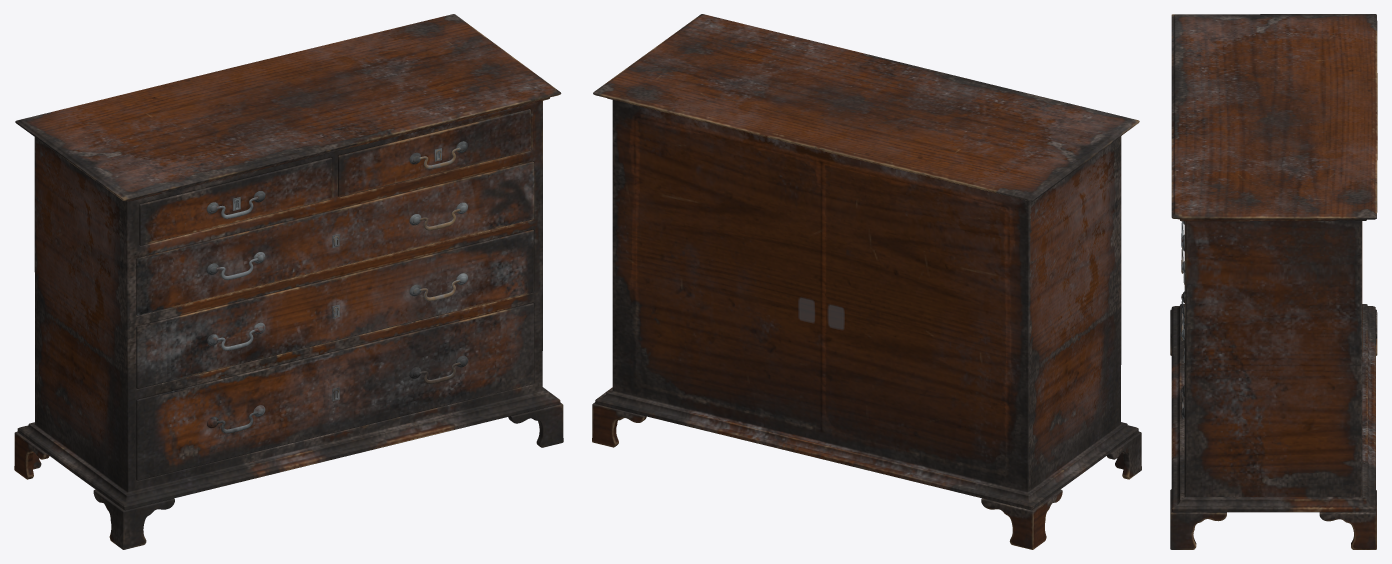
File: ww2-drawer-smoked.glb
The picture shows the model from 3 angles, left to right: view 1: azimuth 30°, elevation 25°; view 2: azimuth 150°, elevation 25°; view 3: azimuth 270°, elevation 25°; orthographic projection. The views are drawn at different scales.
Parts seen in each view (by area): view 1: SM_WW2_DrawersMerged_c1_LOD0; view 2: SM_WW2_DrawersMerged_c1_LOD0; view 3: SM_WW2_DrawersMerged_c1_LOD0.
Part boxes in pixels (box(x1,y1,x2,y2)): SM_WW2_DrawersMerged_c1_LOD0: box(14, 14, 563, 549); SM_WW2_DrawersMerged_c1_LOD0: box(592, 14, 1141, 549); SM_WW2_DrawersMerged_c1_LOD0: box(1170, 14, 1377, 549).
Bounding box in the file's own units: 1.37 × 1.05 × 0.5896.
Materials: 1 (1 with a texture image).
